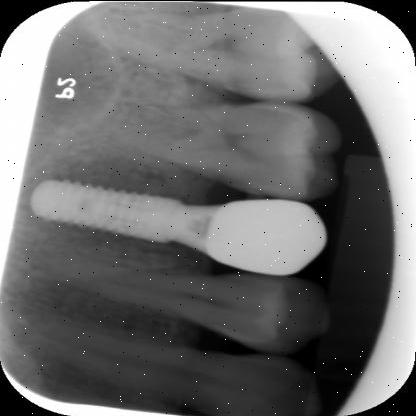ITI: (22, 169, 224, 262)
